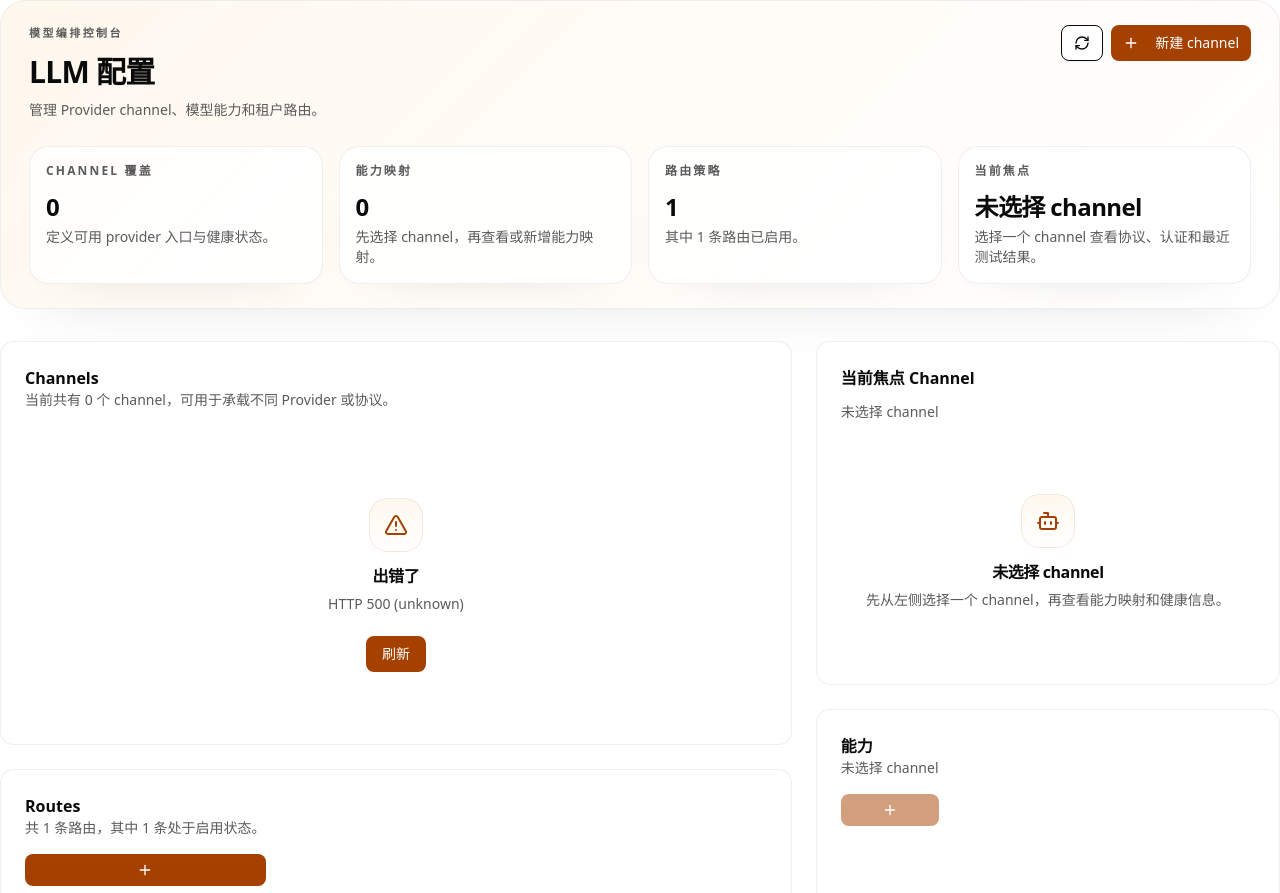
Test: retries channel query errors
Expected: the text "出错了" is shown, [372,564,419,586]
Click the button "刷新" at [396, 654], box [366,636,426,672]
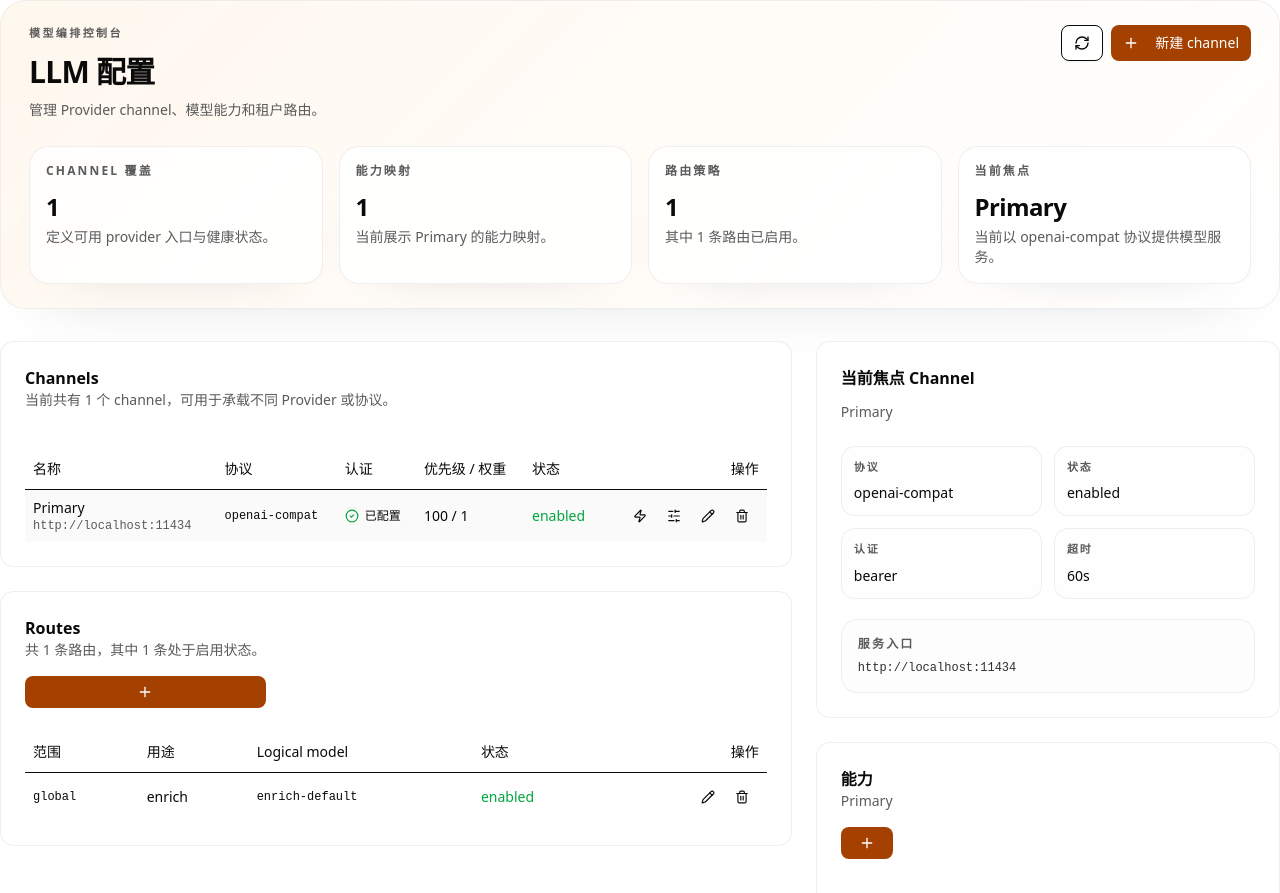
Expected: the text "Primary" below "路由策略" is shown, [974,190,1066,222]
